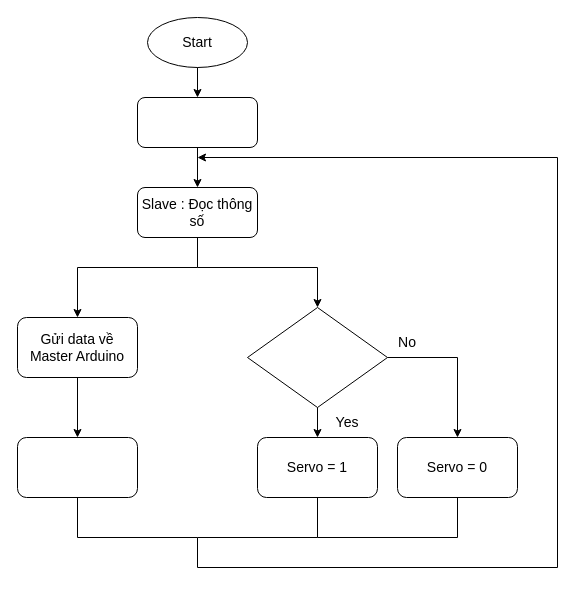
This 583x593 diagram has some shape labels left out. Each missing label, with the box of its shape:
Cường độ AS < 10: (246, 306, 388, 408)
Master Arduino print data ra LCD: (16, 436, 138, 498)
Set up cấu hình: (136, 96, 258, 148)
